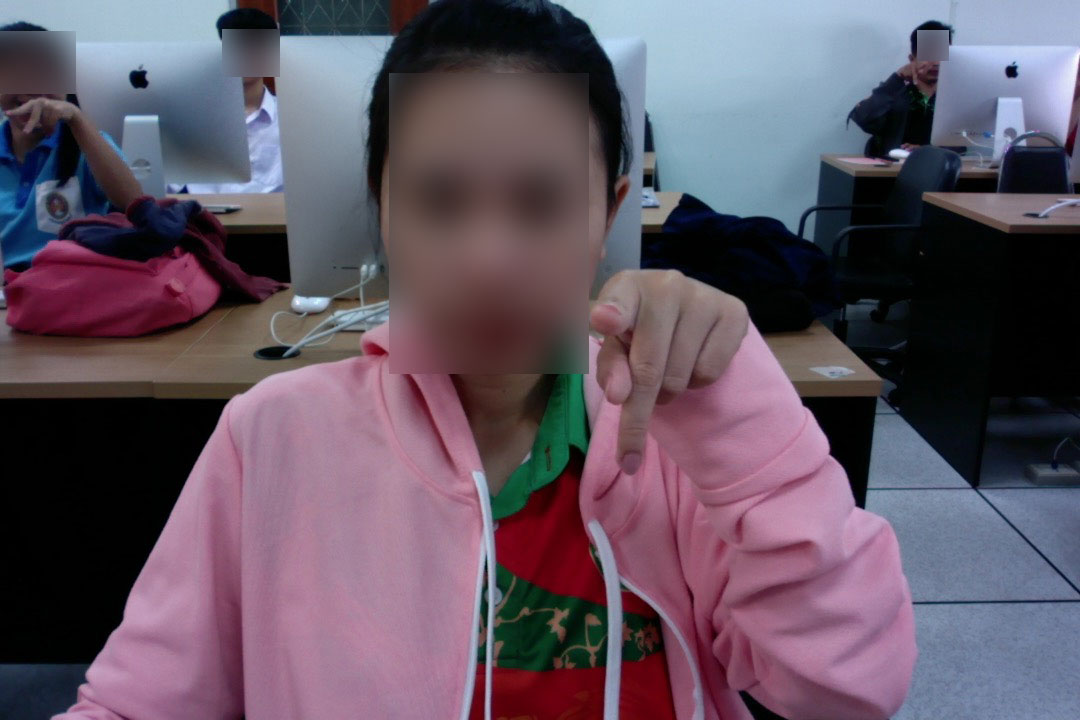por: (583, 265, 753, 481)
